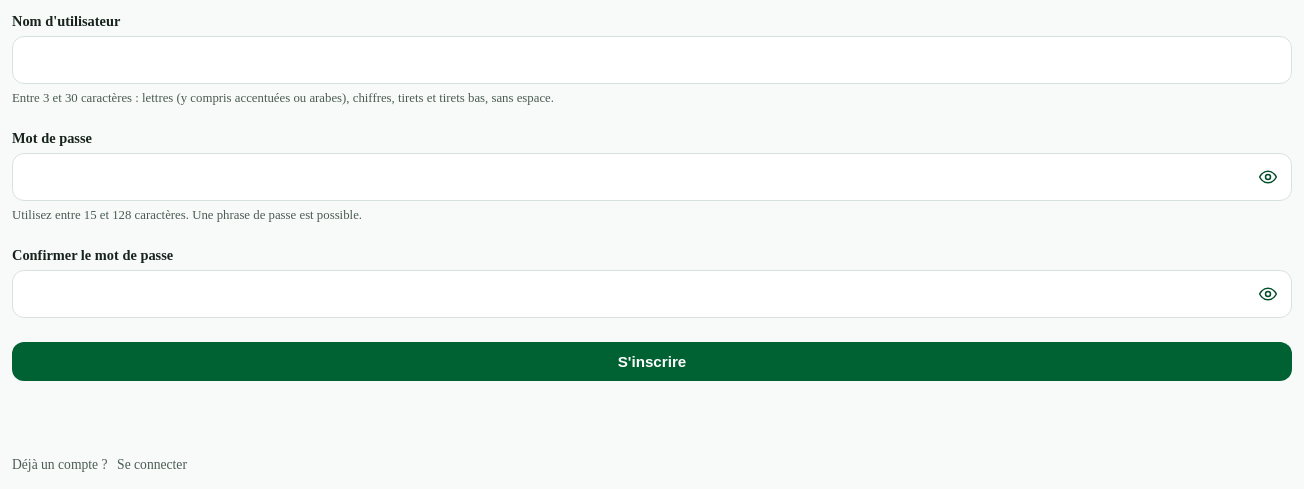
Test: RegistrationForm › sends only username and password to the register API, once, and redirects to the connected space
The width and height of the screenshot is (1304, 489).
Type "jean-dupont_92" into the field labelled "Nom d'utilisateur" at (652, 60), box [12,36,1292,84]
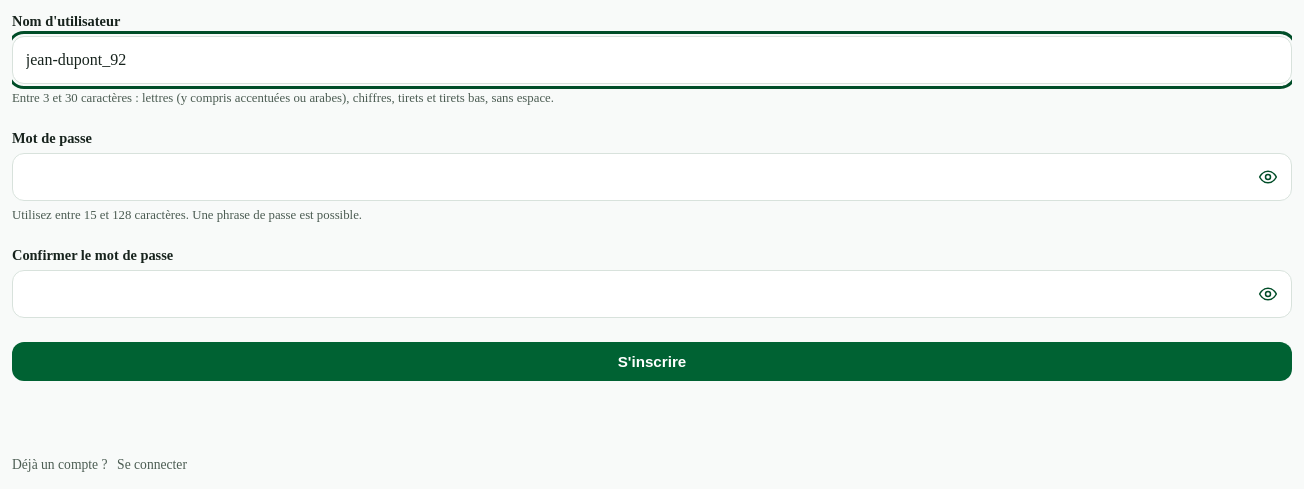
Type "une phrase de passe suffisamment longue" into the password field labelled "Mot de passe" at (652, 177), box [12,153,1292,201]
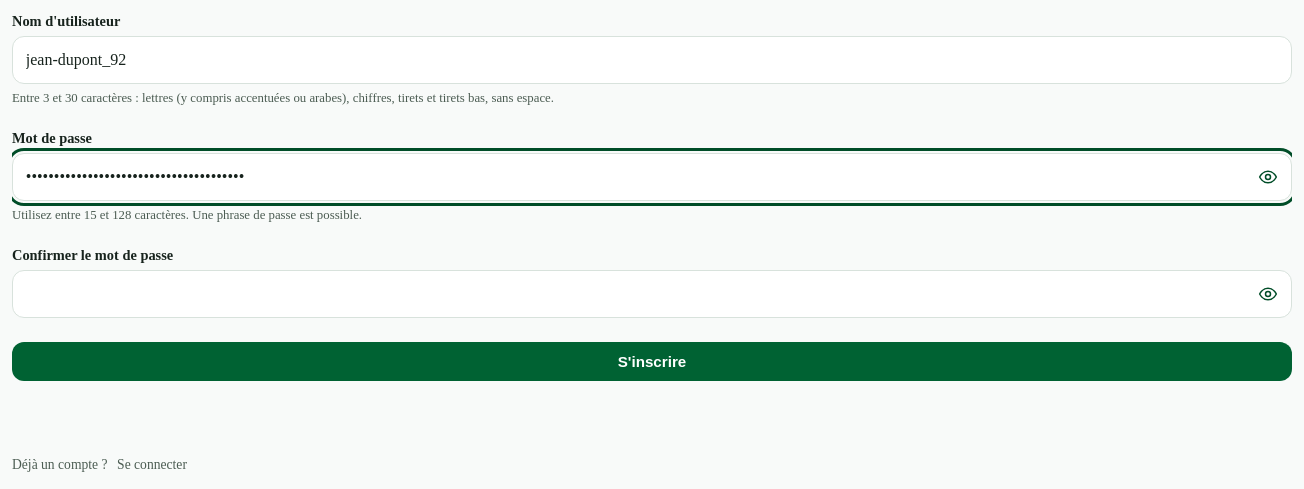
Type "une phrase de passe suffisamment longue" into the password field labelled "Confirmer le mot de passe" at (652, 294), box [12,270,1292,318]
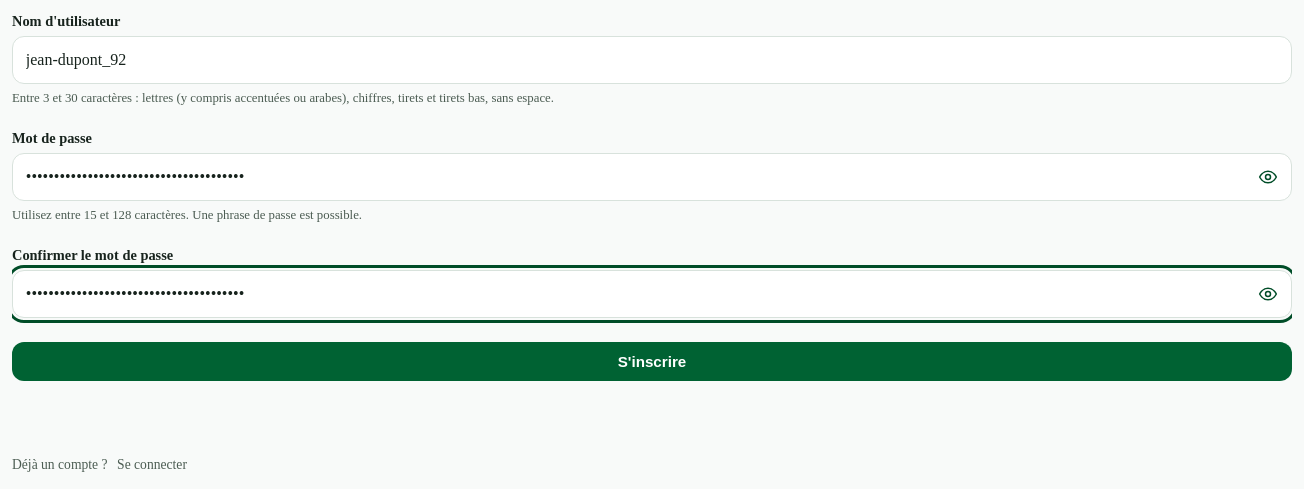
Click the button "S'inscrire" at (652, 362), box [12,342,1292,381]
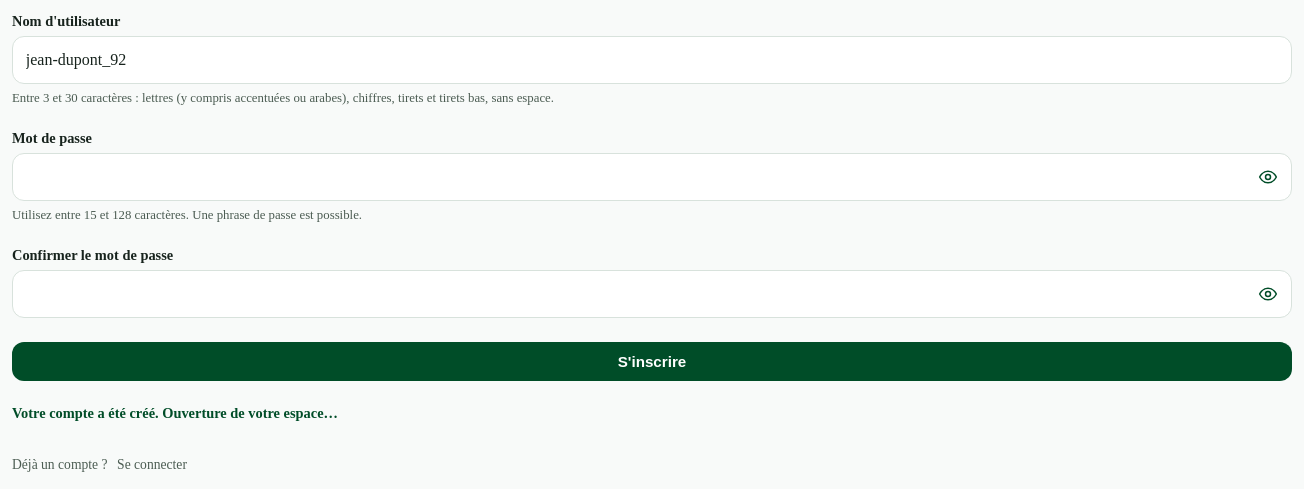
Check: the text "Votre compte a été créé. Ouverture de votre espace…" is shown, box [12,405,338,421]
Check: the password field labelled "Mot de passe" is empty, box [12,153,1292,201]
Check: the password field labelled "Confirmer le mot de passe" is empty, box [12,270,1292,318]
